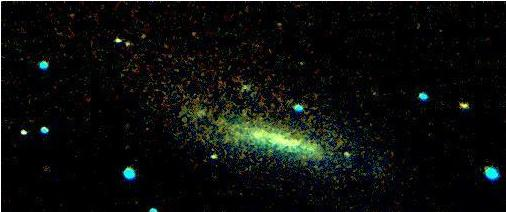star: (329, 141, 359, 171)
